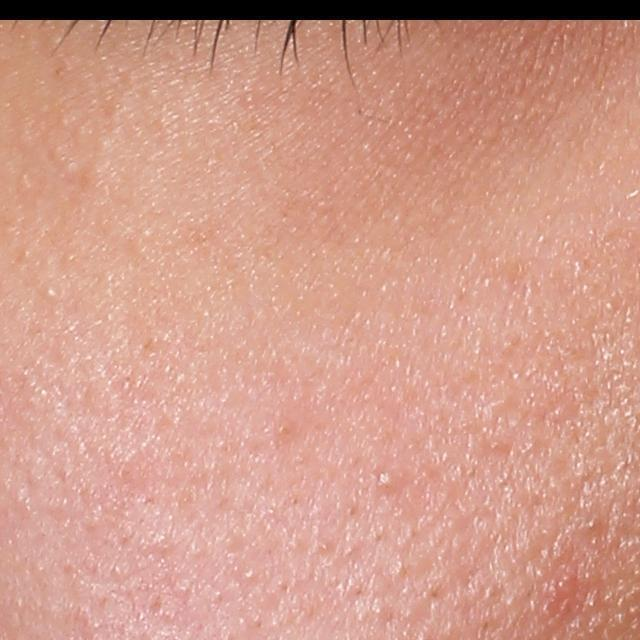comedo: (373, 467, 409, 497), (41, 283, 62, 303)
